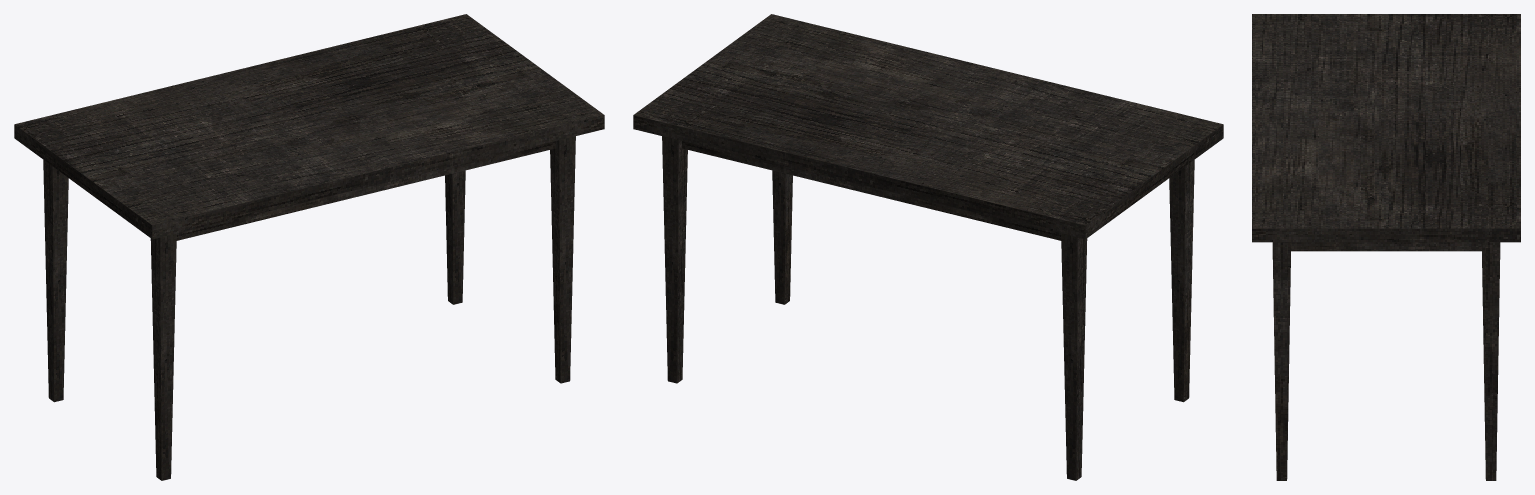
File: table_large_2.glb
3 views of the same model, side by side, from view 1: azimuth 30°, elevation 25°; view 2: azimuth 150°, elevation 25°; view 3: azimuth 270°, elevation 25° (orthographic). The views are drawn at different scales.
Visible parts, largest first — view 1: table_large_2; view 2: table_large_2; view 3: table_large_2.
Part boxes in pixels (x1,y1,x2,y2): table_large_2: [14, 14, 604, 480]; table_large_2: [633, 14, 1223, 480]; table_large_2: [1252, 14, 1520, 480].
Bounding box in the file's own units: 1.7 × 0.97 × 0.9.
1 material, 1 textured.
